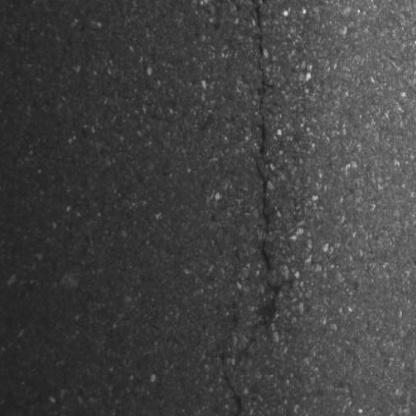Cracks: (251, 0, 298, 331), (220, 367, 248, 416)
